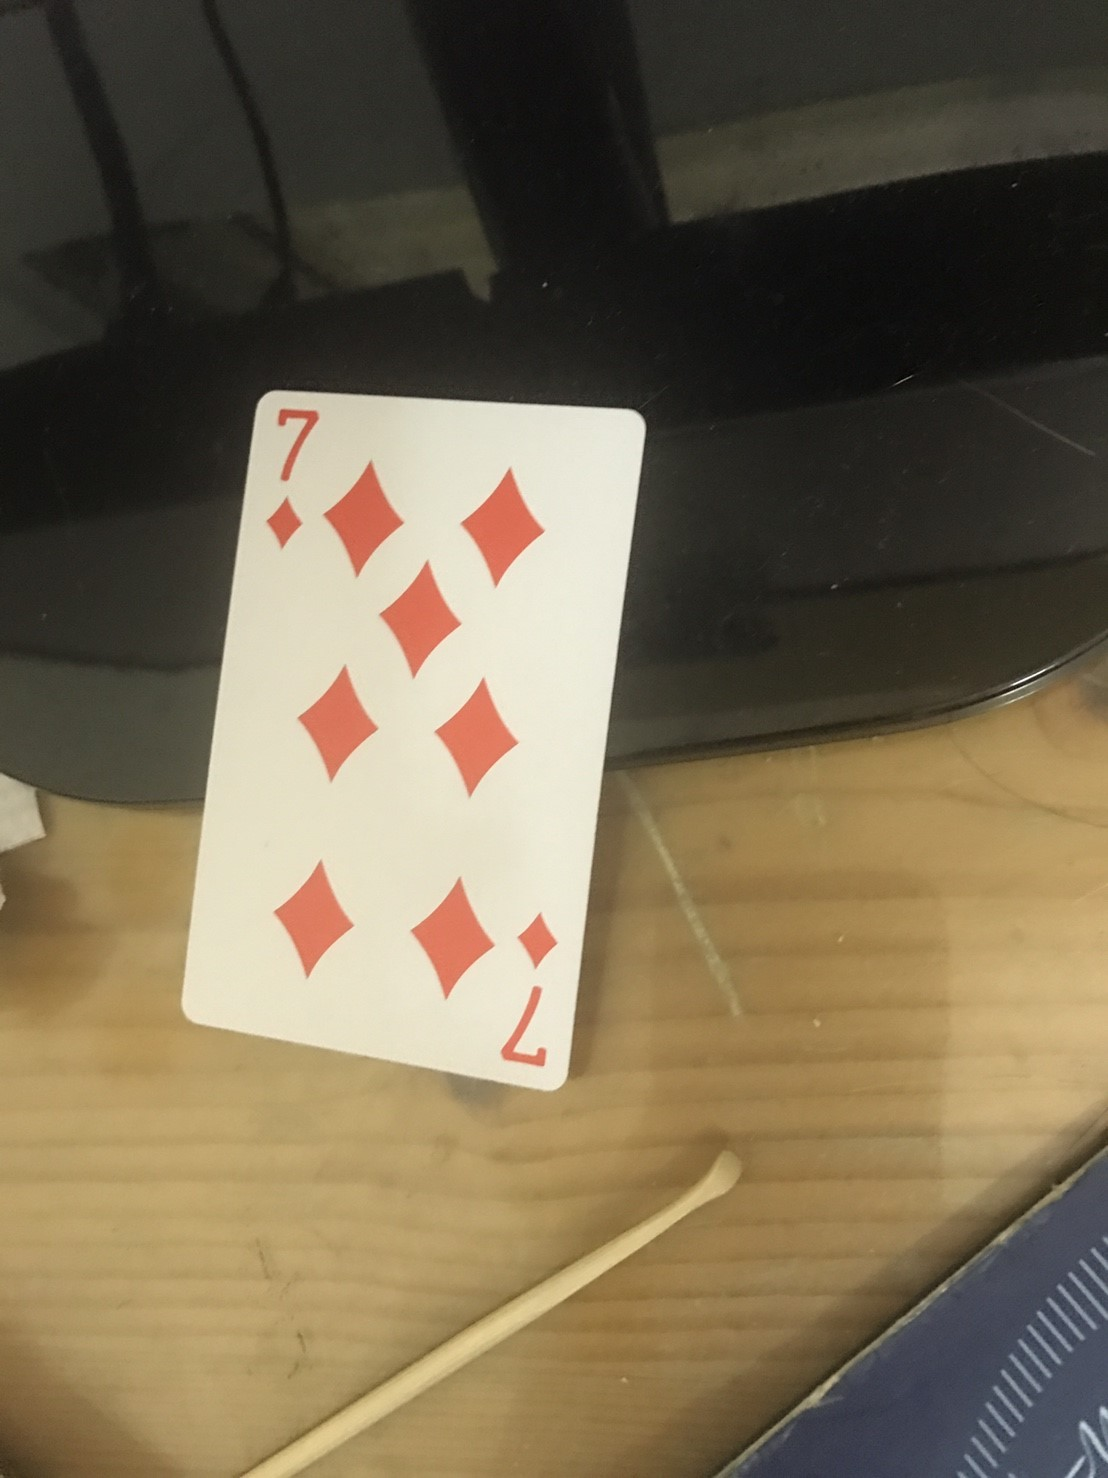diamonds: (399, 873, 498, 1009), (434, 674, 525, 800), (460, 462, 553, 583), (267, 861, 358, 981), (293, 668, 384, 787), (325, 454, 406, 581), (377, 561, 461, 680), (517, 893, 560, 971), (261, 493, 305, 550)
